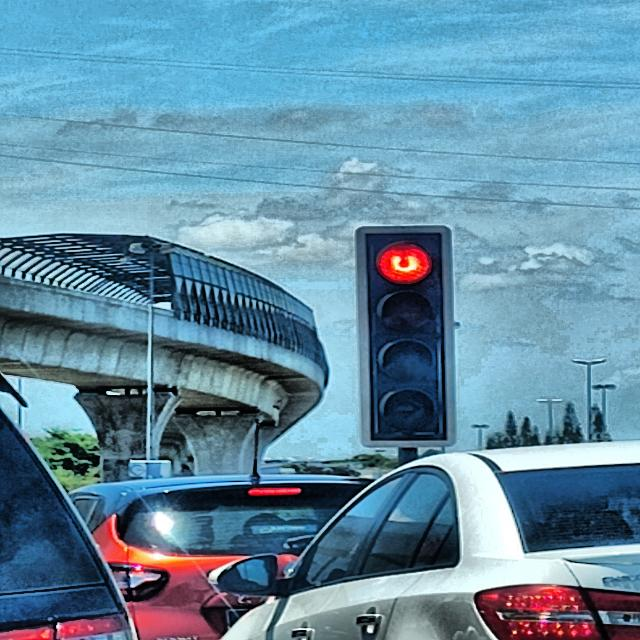red: (361, 227, 456, 449)
